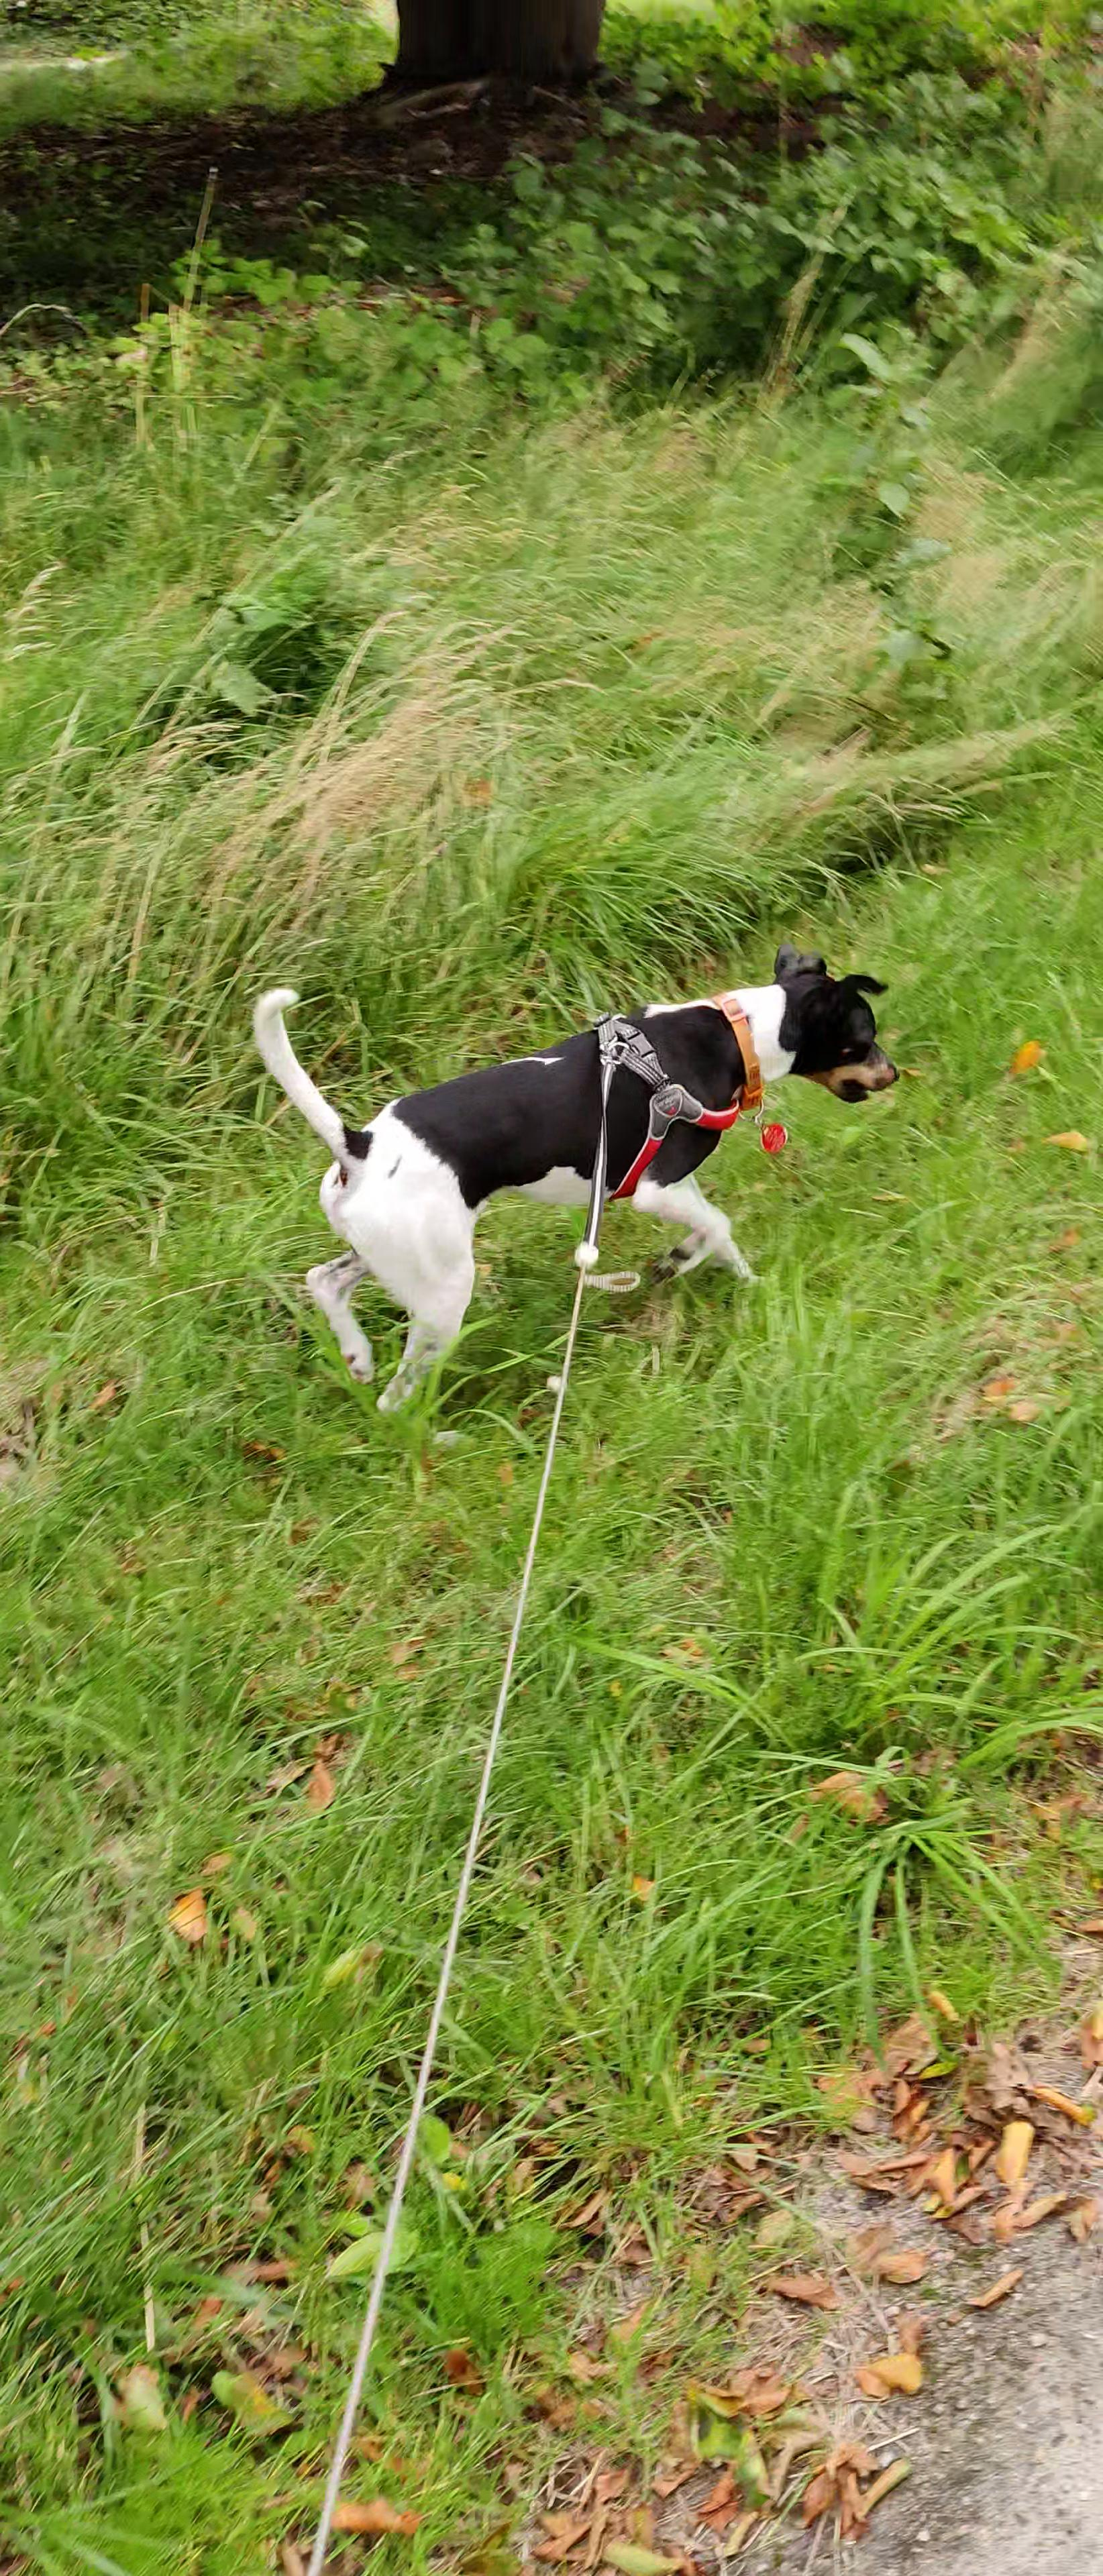Dog: (243, 933, 907, 1423)
